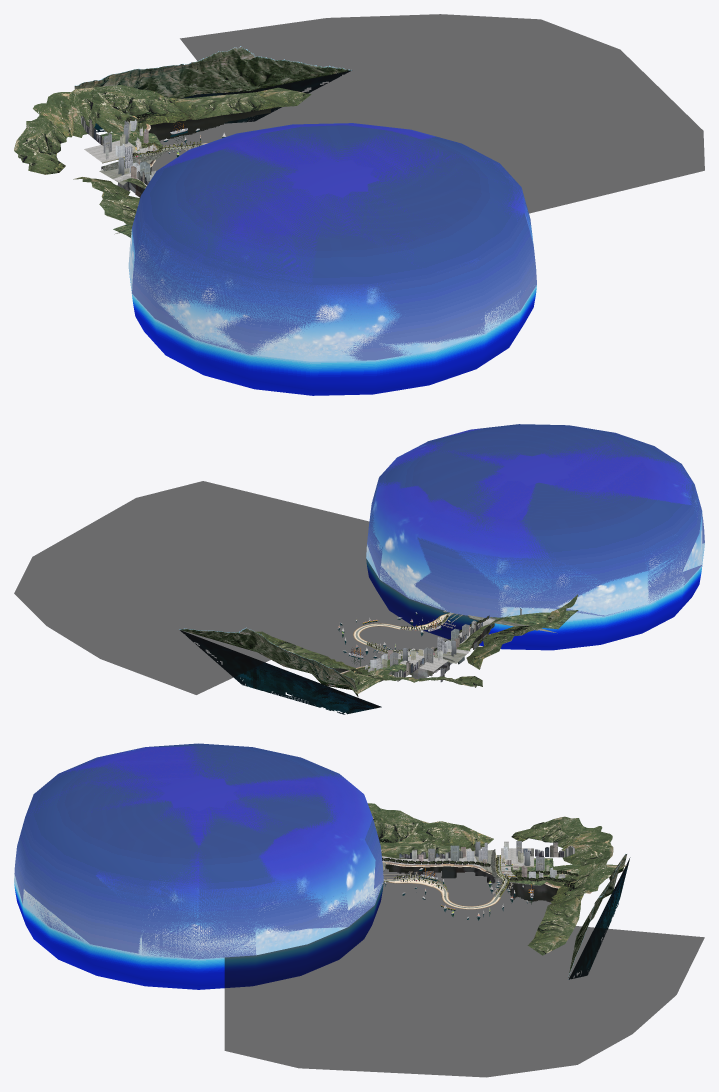
The model's file is stage-beac.glb.
3 renders of one model, top to bottom at view 1: azimuth 30°, elevation 25°; view 2: azimuth 150°, elevation 25°; view 3: azimuth 270°, elevation 25°, orthographic. The views are drawn at different scales.
Visible parts, largest first — view 1: sky, part 5, part 1, part 3; view 2: sky, part 5, part 1, part 3, part 4; view 3: sky, part 5, part 1, part 3, part 2, part 4.
Part boxes in pixels (bbox=[...]): sky: bbox=[128, 123, 536, 395]; part 5: bbox=[130, 14, 704, 213]; part 1: bbox=[14, 46, 351, 237]; part 3: bbox=[81, 116, 203, 185]; sky: bbox=[366, 424, 704, 650]; part 5: bbox=[14, 481, 490, 694]; part 1: bbox=[179, 594, 578, 714]; part 3: bbox=[365, 608, 521, 681]; part 4: bbox=[338, 610, 462, 661]; sky: bbox=[14, 743, 383, 989]; part 5: bbox=[224, 864, 704, 1077]; part 1: bbox=[367, 803, 630, 979]; part 3: bbox=[399, 841, 574, 897]; part 2: bbox=[382, 857, 577, 896]; part 4: bbox=[382, 868, 533, 920].
Bounding box in the file's own units: 6334 × 1627 × 6736.
Materials: 210 (207 with a texture image).
